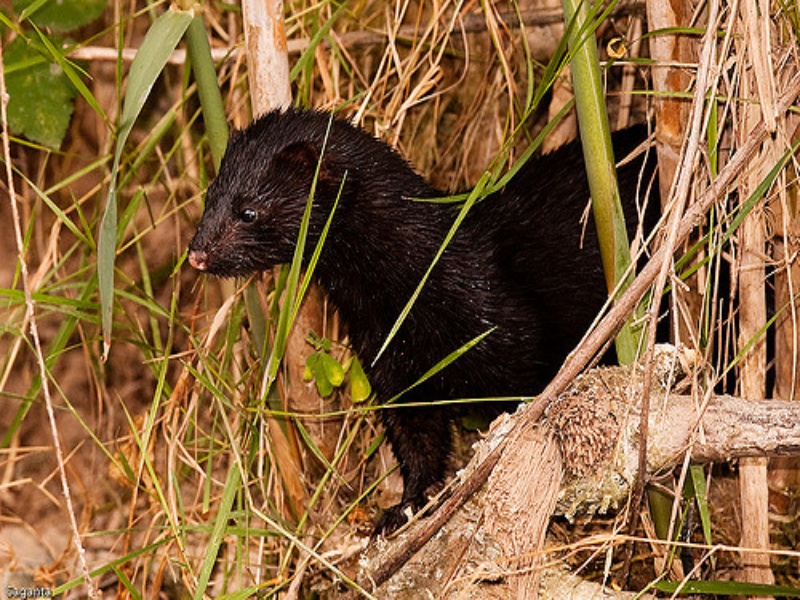minkish: (184, 94, 772, 540)
